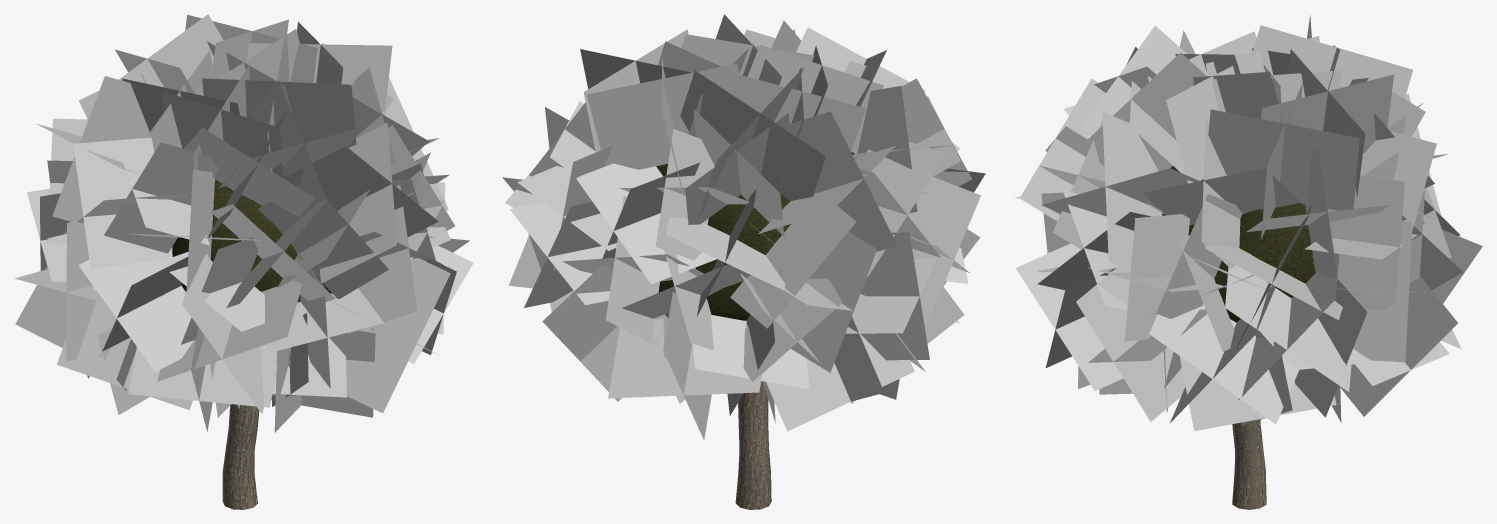
The model's file is New_Tree_Test.fbx.
3 views of the same model, side by side, from view 1: azimuth 30°, elevation 25°; view 2: azimuth 150°, elevation 25°; view 3: azimuth 270°, elevation 25° (orthographic). The views are drawn at different scales.
Visible parts, largest first — view 1: pSphere2; view 2: pSphere2; view 3: pSphere2.
Boxes of the visible parts, x1=… form: pSphere2: x1=15, y1=14, x2=473, y2=509; pSphere2: x1=502, y1=14, x2=985, y2=509; pSphere2: x1=1014, y1=15, x2=1482, y2=509.
Bounding box in the file's own units: 7171 × 7887 × 7292.
